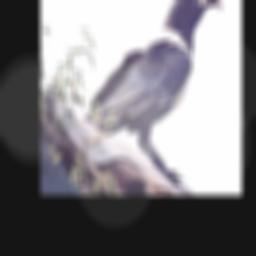Crow: (79, 0, 223, 188)
